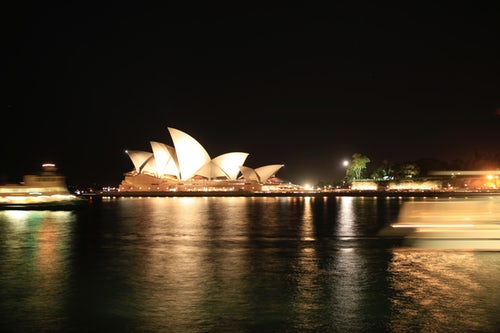opera house: (111, 120, 295, 193)
